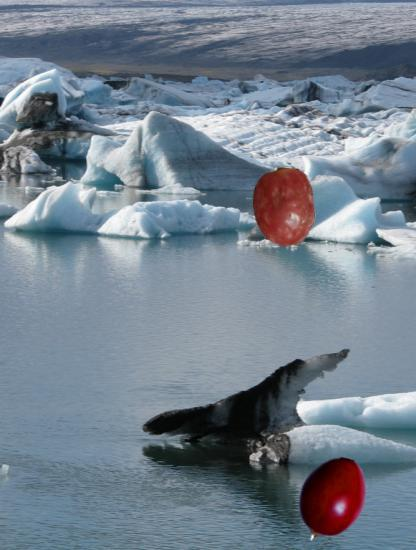Grape: (245, 168, 323, 246)
Tamarillo: (288, 456, 377, 545)
